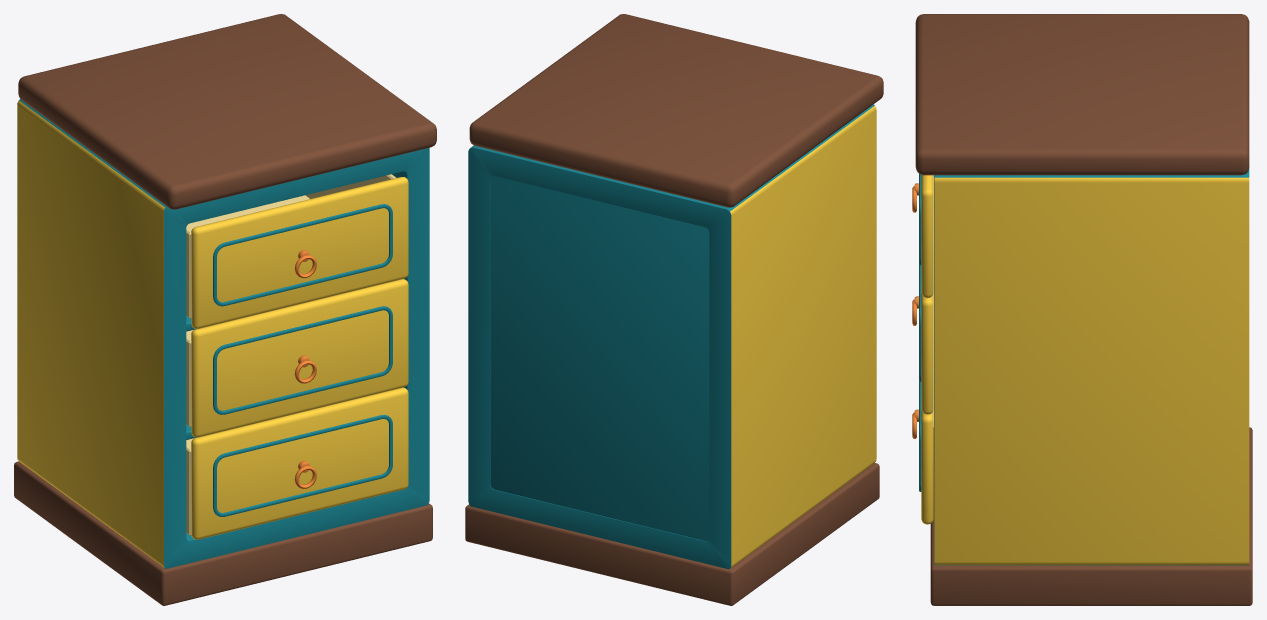
The model's file is gaveteiro_cozinha_largo_3gavetas_colonial.glb.
The picture shows the model from 3 angles, left to right: view 1: azimuth 30°, elevation 25°; view 2: azimuth 150°, elevation 25°; view 3: azimuth 270°, elevation 25°; orthographic projection. The views are drawn at different scales.
Visible parts, largest first — view 1: gaveteiro_cozinha_largo_3gavetas_colonial, gaveta_2, gaveta_1, gaveta_3; view 2: gaveteiro_cozinha_largo_3gavetas_colonial; view 3: gaveteiro_cozinha_largo_3gavetas_colonial, gaveta_2, gaveta_1, gaveta_3.
Part boxes in pixels (x1,y1,x2,y2): gaveteiro_cozinha_largo_3gavetas_colonial: [14, 14, 436, 605]; gaveta_2: [186, 279, 408, 437]; gaveta_1: [186, 174, 408, 328]; gaveta_3: [186, 387, 408, 539]; gaveteiro_cozinha_largo_3gavetas_colonial: [465, 14, 883, 605]; gaveteiro_cozinha_largo_3gavetas_colonial: [915, 14, 1252, 605]; gaveta_2: [912, 264, 933, 414]; gaveta_1: [912, 174, 933, 298]; gaveta_3: [912, 381, 933, 524].
Size of the model in its own units: 0.604 by 0.9 by 0.6112.
1 material, 1 textured.
